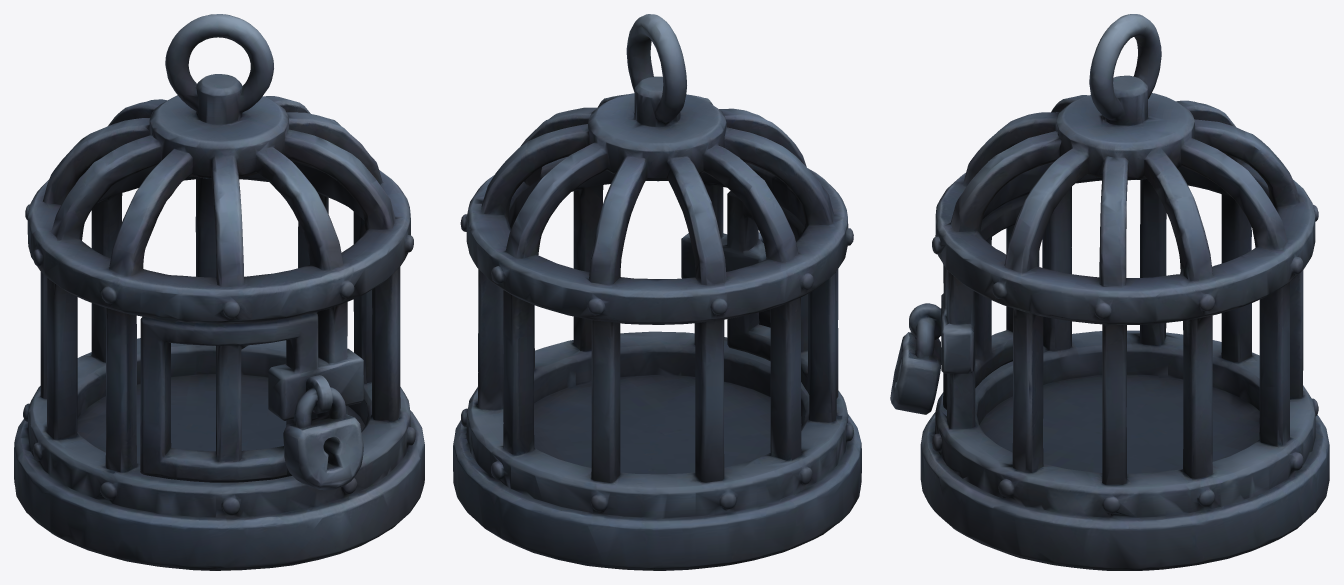
Rendered from ev_cage-BbgZ7CZo.glb.
3 views of the same model, side by side, from view 1: azimuth 30°, elevation 25°; view 2: azimuth 150°, elevation 25°; view 3: azimuth 270°, elevation 25° (orthographic).
Visible parts, largest first — view 1: tripo_node_923c7e56-f459-4386-9a12-6f3f37d1baca; view 2: tripo_node_923c7e56-f459-4386-9a12-6f3f37d1baca; view 3: tripo_node_923c7e56-f459-4386-9a12-6f3f37d1baca.
Boxes of the visible parts, x1=… form: tripo_node_923c7e56-f459-4386-9a12-6f3f37d1baca: x1=14, y1=14, x2=424, y2=570; tripo_node_923c7e56-f459-4386-9a12-6f3f37d1baca: x1=453, y1=14, x2=861, y2=570; tripo_node_923c7e56-f459-4386-9a12-6f3f37d1baca: x1=890, y1=14, x2=1329, y2=570.
Size of the model in its own units: 1.42 by 1.8 by 1.52.
1 material, 1 textured.
